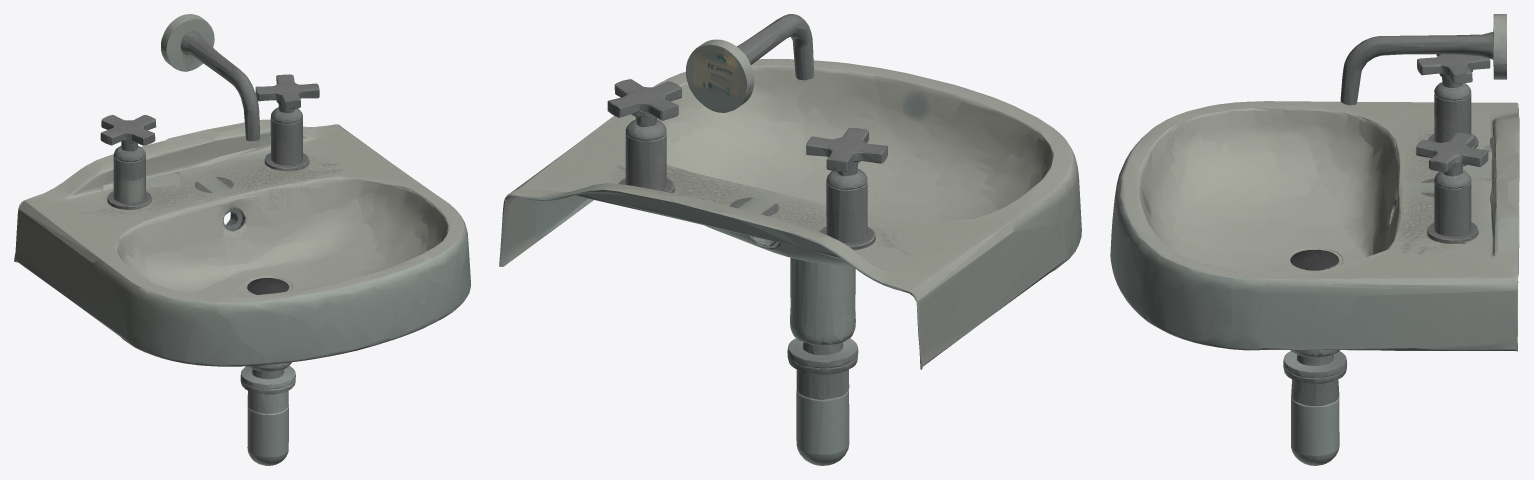
File: lavandino_B.glb
3 views of the same model, side by side, from view 1: azimuth 30°, elevation 25°; view 2: azimuth 150°, elevation 25°; view 3: azimuth 270°, elevation 25° (orthographic). The views are drawn at different scales.
Size of the model in its own units: 1.7 by 1.9 by 1.58.
Materials: 1 (1 with a texture image).
